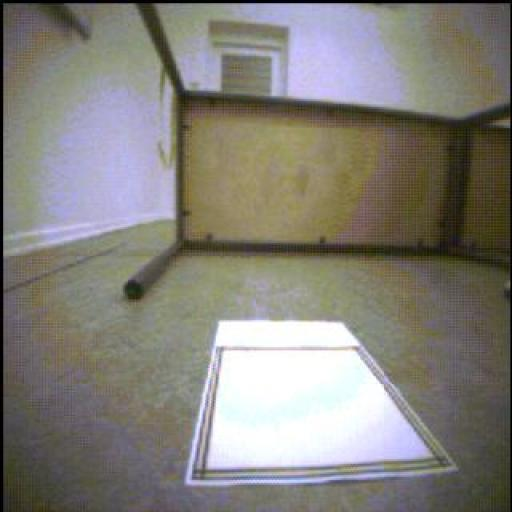Pad: (187, 321, 457, 486)
